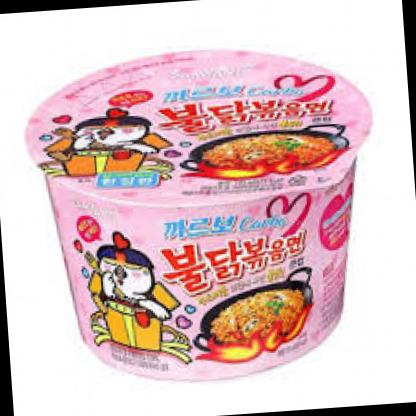Ramen: (20, 38, 391, 398)
